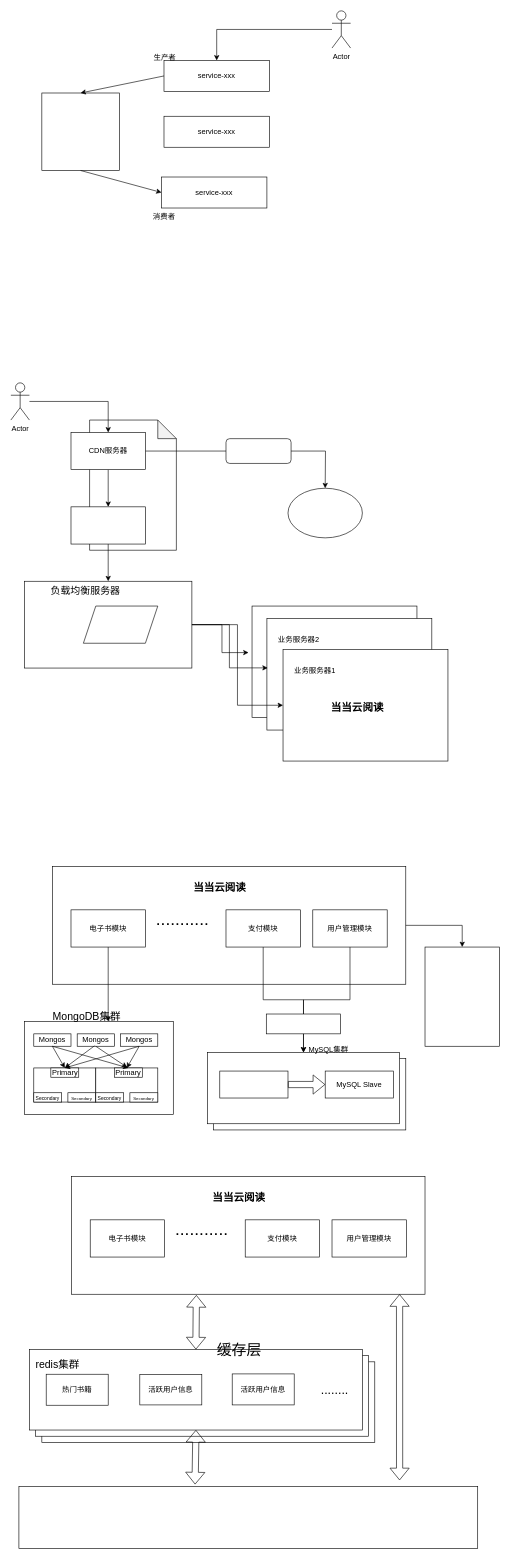
Some shapes in this 513 by 1559 pixel diagram are drawn without their labels. The box of each missing label's shape, as (x1, y1, x2, y2) in pixels:
Kafka: (41, 92, 119, 170)
MySQL Master: (219, 1070, 288, 1098)
Nginx/Proxy: (83, 605, 158, 643)
中间件: (266, 1013, 341, 1034)
前端相关资源: (89, 419, 176, 550)
反向代理服务器: (70, 506, 145, 544)
图片/视频: (225, 438, 291, 463)
对象存储: (287, 488, 362, 538)
对象存储服务器: (424, 946, 499, 1046)
持久层: (18, 1486, 478, 1548)
